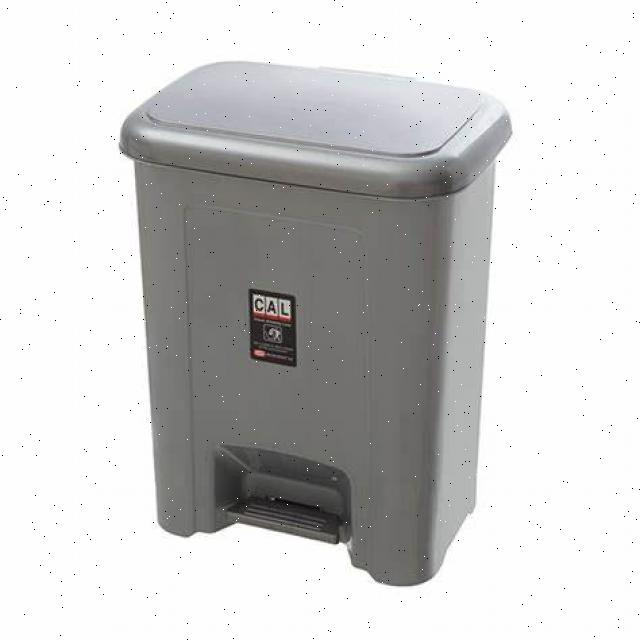garbage container: (106, 47, 522, 624)
